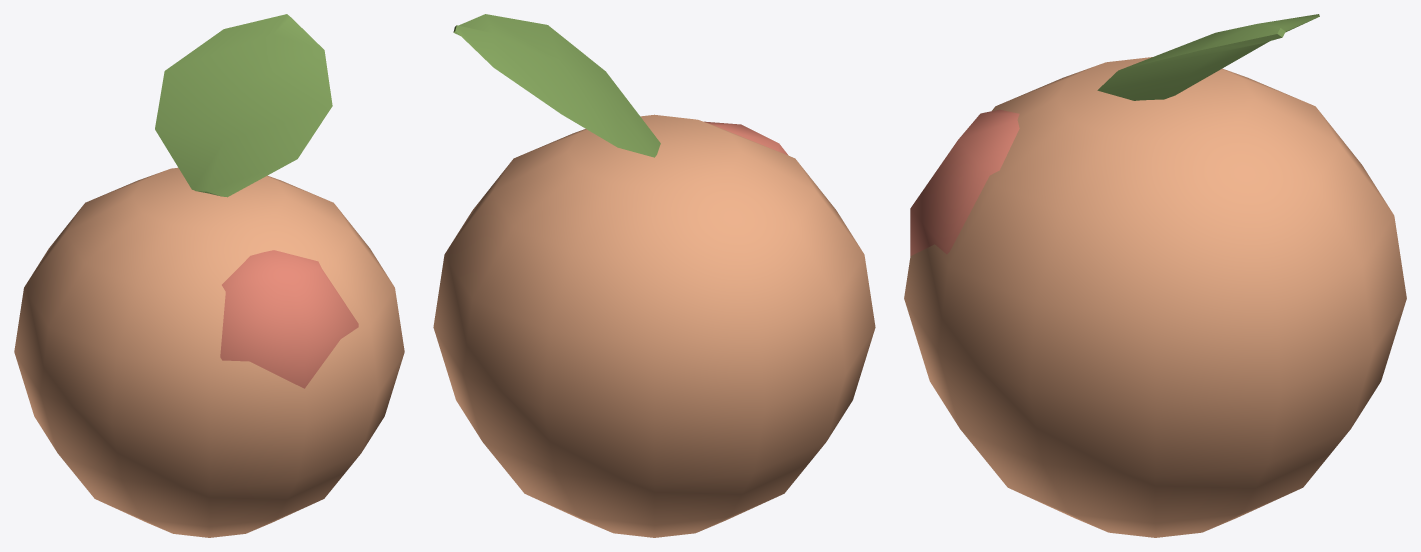
File: peach.glb
The picture shows the model from 3 angles, left to right: view 1: azimuth 30°, elevation 25°; view 2: azimuth 150°, elevation 25°; view 3: azimuth 270°, elevation 25°; orthographic projection. The views are drawn at different scales.
Visible parts, largest first — view 1: peach; view 2: peach; view 3: peach.
Boxes of the visible parts, box(x1,y1,x2,y2) form: peach: box(14, 14, 404, 537); peach: box(433, 14, 875, 537); peach: box(904, 14, 1406, 537).
Size of the model in its own units: 0.1 by 0.1243 by 0.1.
